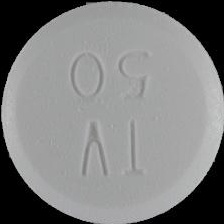63629-2945: (0, 0, 224, 224)
